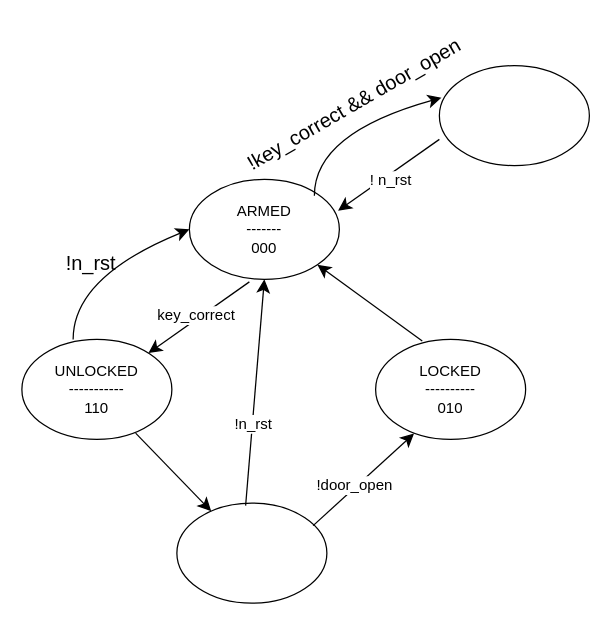
Image size: 611x626. Some labels were removed from this diagram. Each missing label, with the box of its shape:
ALARM ------ 001: (438, 64, 589, 166)
OCCUPIED ---------- 100: (176, 502, 327, 603)
